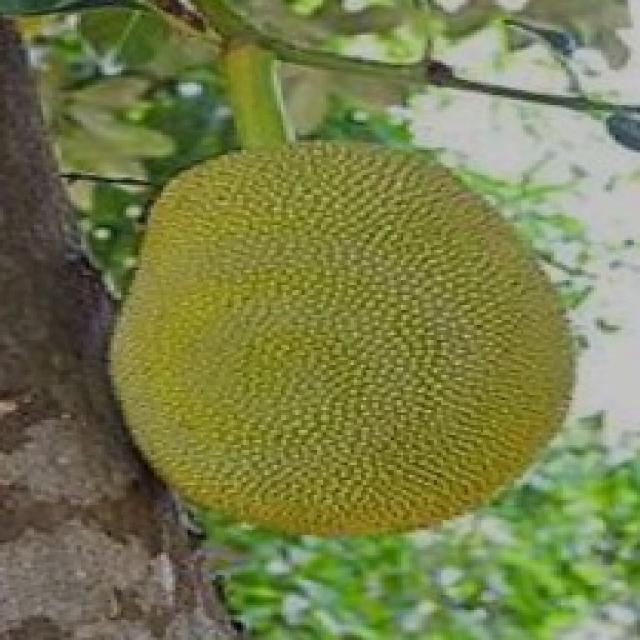Fruit: (240, 132, 622, 570)
